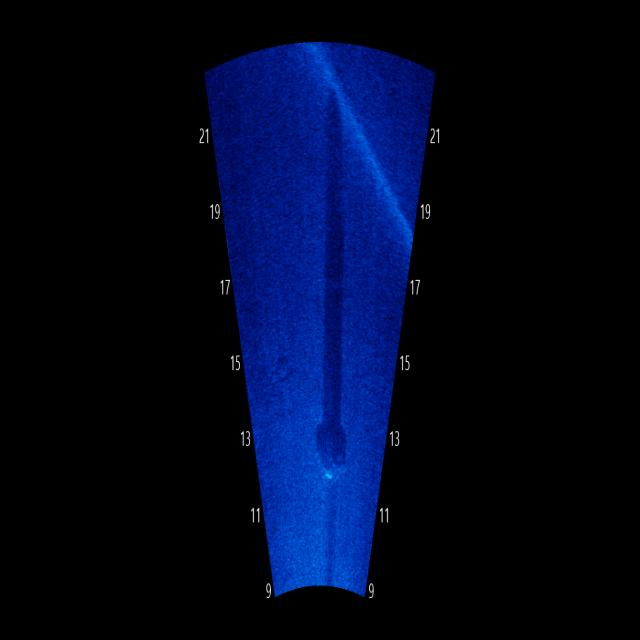circle: (271, 348, 294, 388)
square: (310, 423, 350, 491)
